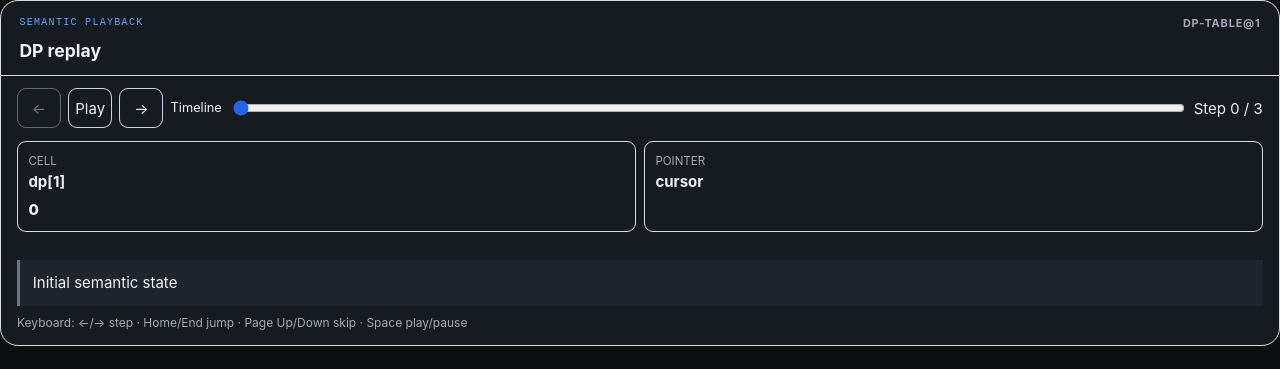
replays non-graph renderers with values, visibility, active state, controls, and keyboard
The image size is (1280, 369).
Expected: the text "Step 0 / 3" is shown, [1194, 97, 1263, 120]
Step 1. Click the button named "Next visualization step" → [141, 108], box [119, 88, 163, 128]
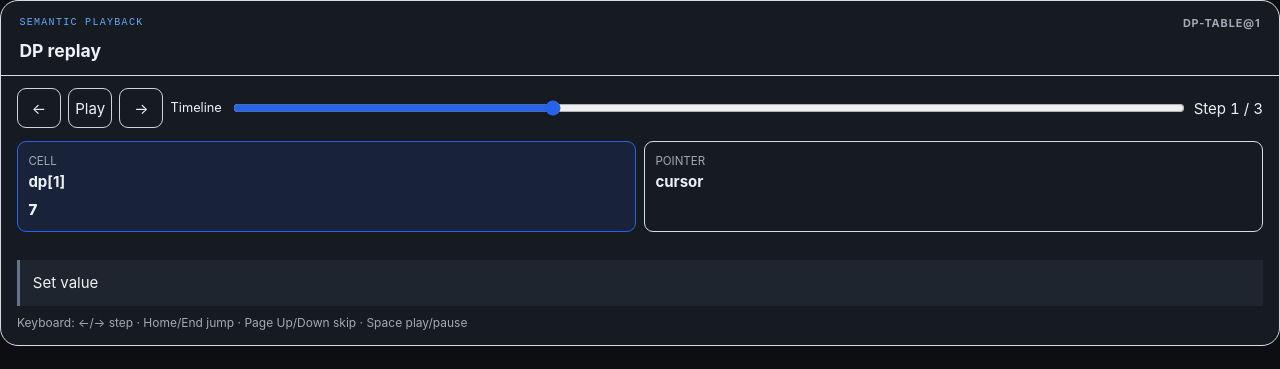
Now the text "7" is shown, box [28, 200, 37, 219]
Step 2. Click the button named "Next visualization step" → [141, 108], box [119, 88, 163, 128]
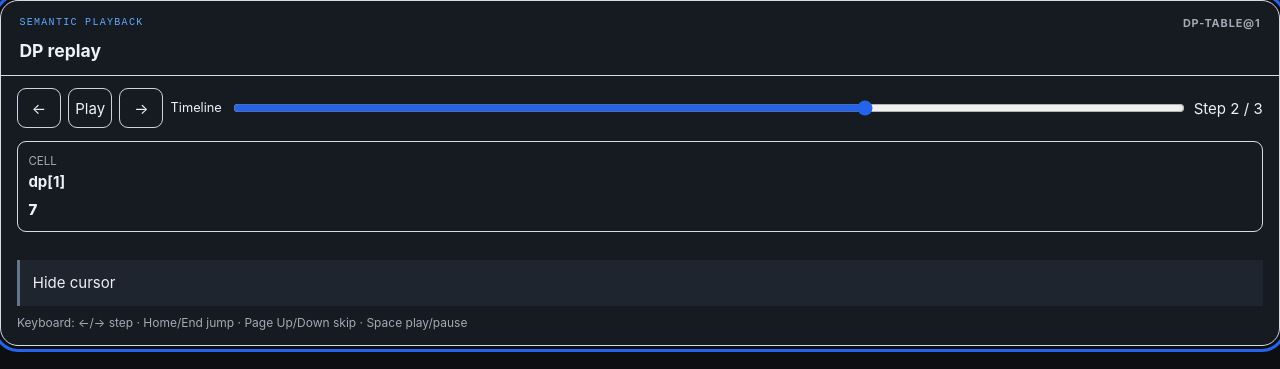
Step 3. Press End in the element named "DP replay visualization"
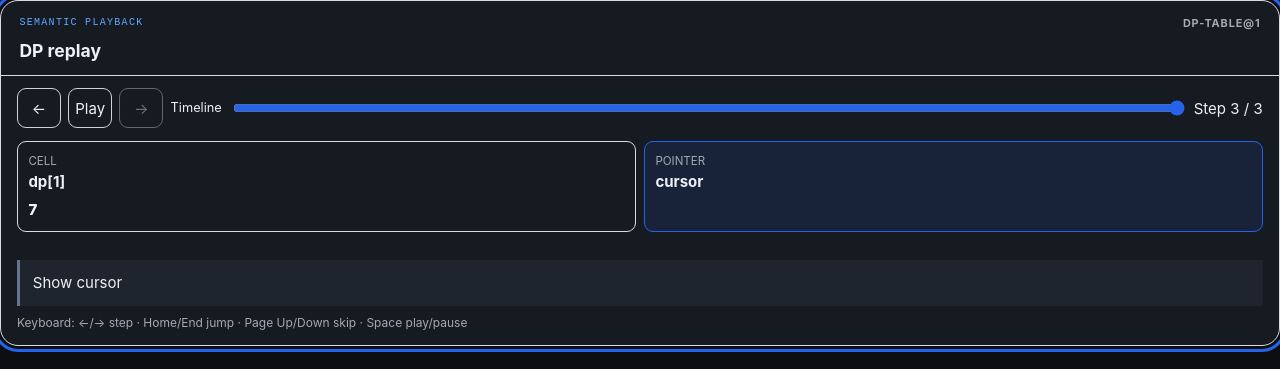
Now the text "Step 3 / 3" is shown, box [1194, 97, 1263, 120]
Now the list item "pointer cursor" is shown, box [644, 141, 1263, 232]
